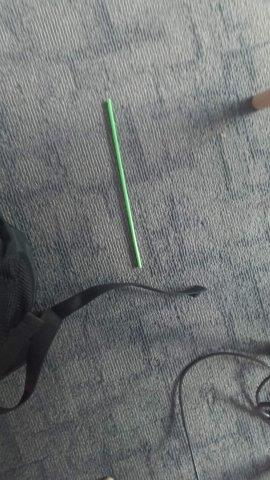sedotan: (108, 104, 141, 267)
